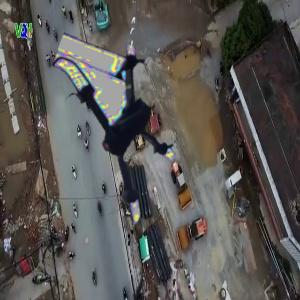drone: (33, 47, 208, 222)
